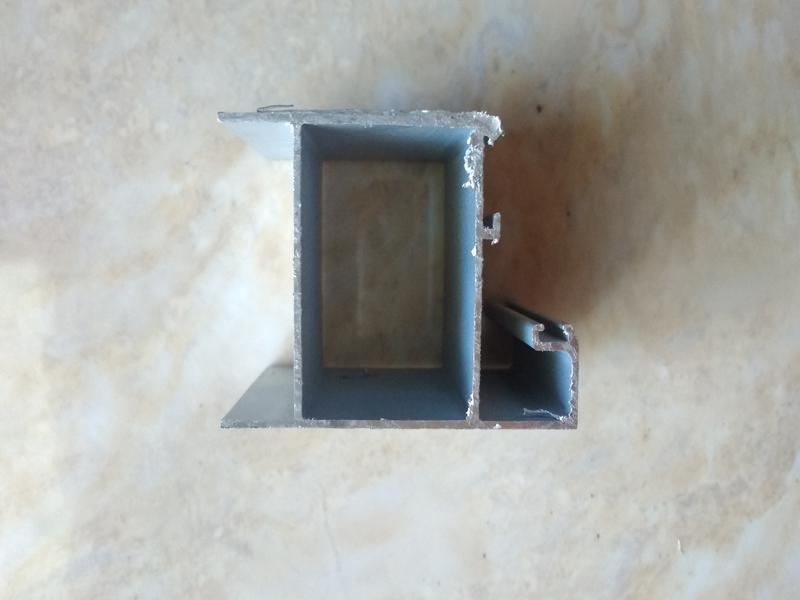Aluminium_2: (190, 82, 617, 466)
